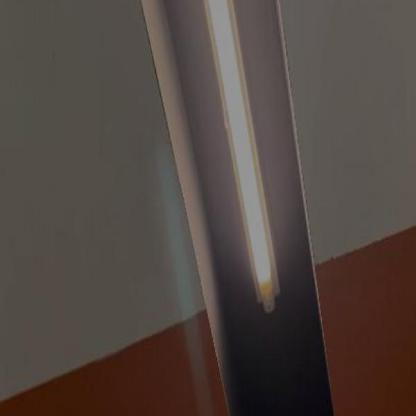light_on: (177, 0, 291, 349)
